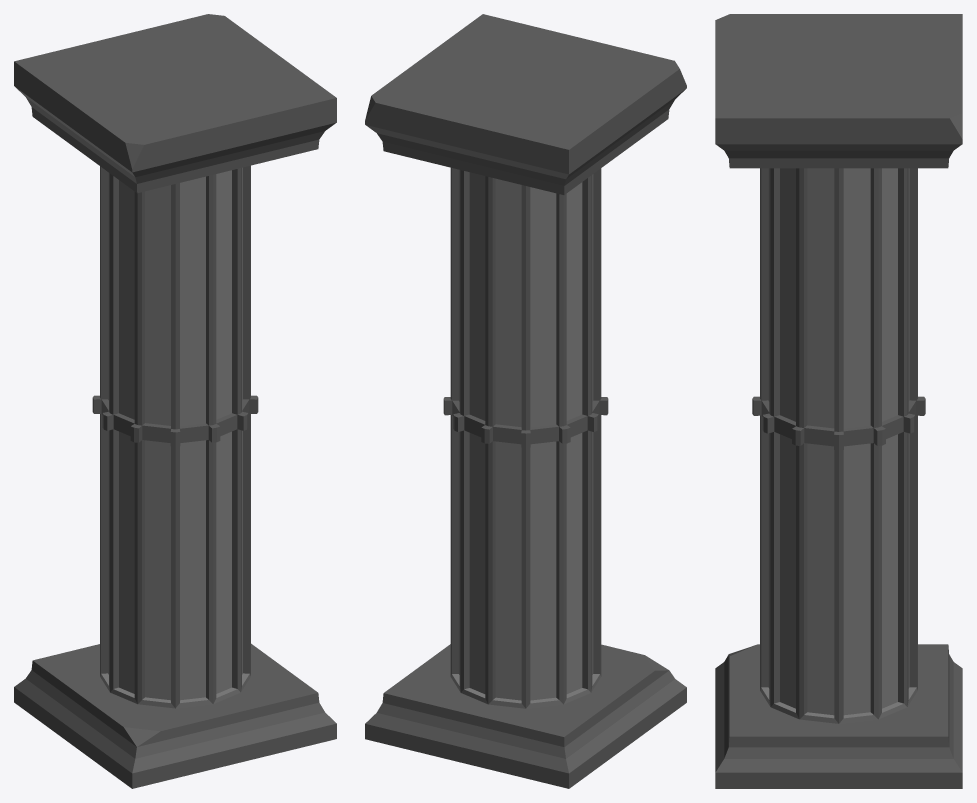
File: Pillar_05.fbx
The picture shows the model from 3 angles, left to right: view 1: azimuth 30°, elevation 25°; view 2: azimuth 150°, elevation 25°; view 3: azimuth 270°, elevation 25°; orthographic projection. The views are drawn at different scales.
Visible parts, largest first — view 1: Pillar_05; view 2: Pillar_05; view 3: Pillar_05.
Boxes of the visible parts, x1,y1,x2,y2 form: Pillar_05: (14, 14, 336, 788); Pillar_05: (365, 14, 686, 788); Pillar_05: (715, 14, 962, 788).
Size of the model in its own units: 84.16 by 252 by 84.16.
